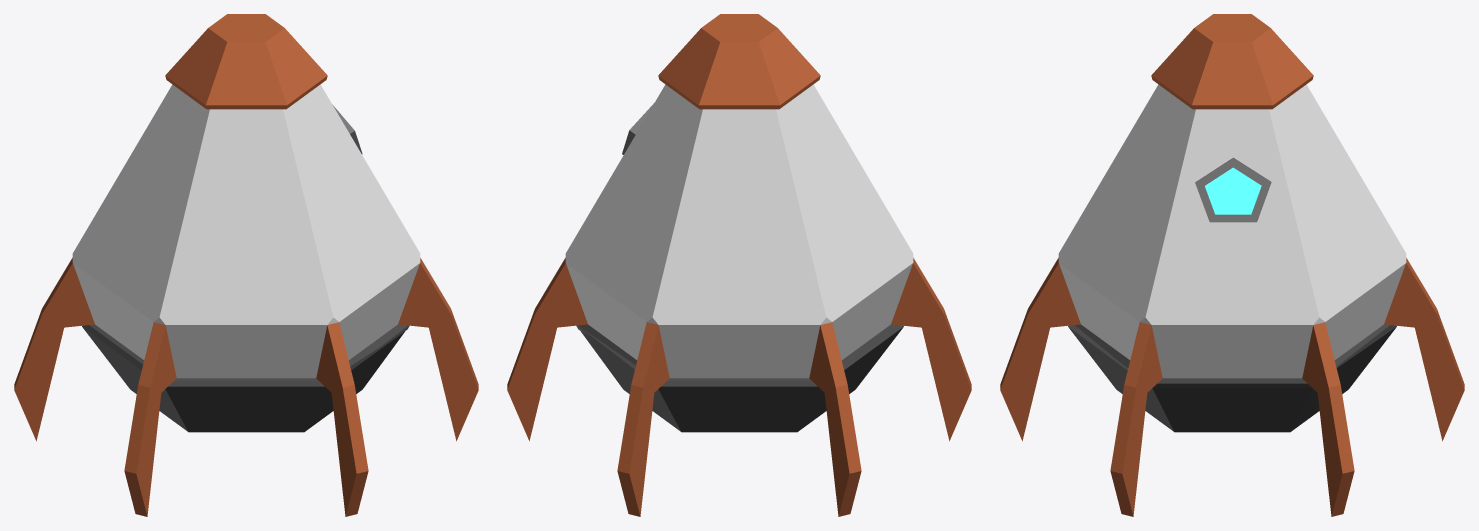
File: rocket.fbx
The picture shows the model from 3 angles, left to right: view 1: azimuth 30°, elevation 25°; view 2: azimuth 150°, elevation 25°; view 3: azimuth 270°, elevation 25°; orthographic projection.
Parts seen in each view (by area): view 1: 1Rocket; view 2: 1Rocket; view 3: 1Rocket.
Part boxes in pixels (bbox=[...]): 1Rocket: bbox=[14, 14, 478, 516]; 1Rocket: bbox=[507, 14, 971, 516]; 1Rocket: bbox=[1000, 14, 1464, 516].
Size of the model in its own units: 214 by 237 by 243.
